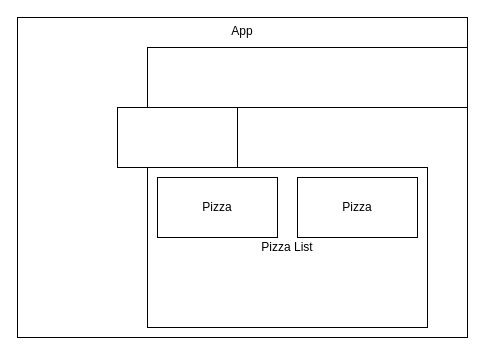
This 485x355 diagram has some shape labels left out. Each missing label, with the box of its shape:
Header: (146, 46, 468, 108)
Pizza Form: (116, 106, 238, 168)
